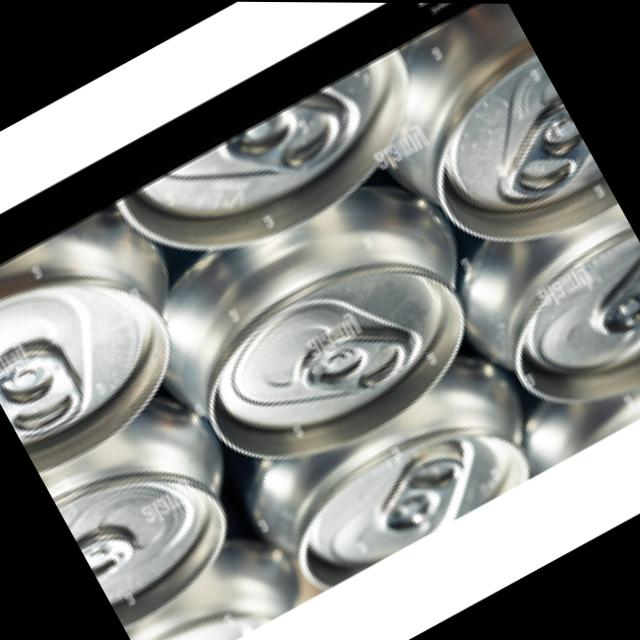aluminum_soda_cans: (156, 202, 496, 509), (128, 49, 444, 299), (271, 379, 547, 591), (0, 207, 212, 480), (45, 409, 268, 640), (403, 47, 616, 271), (479, 229, 640, 454)
